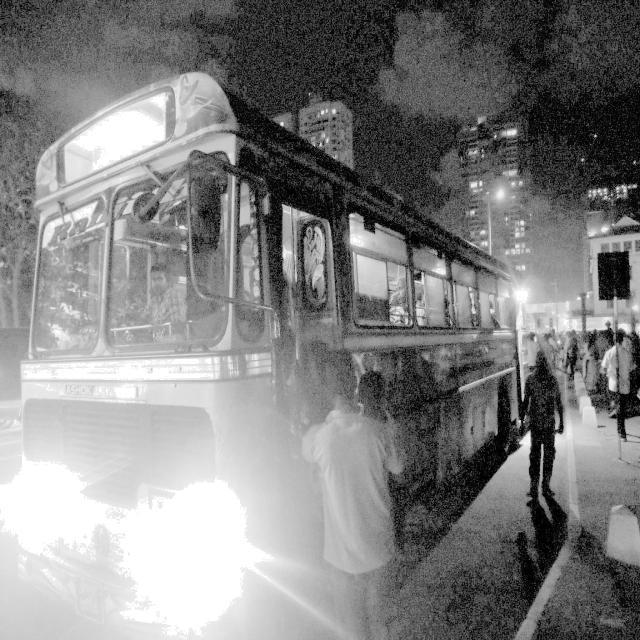Bus: (0, 66, 549, 595)
Person: (302, 339, 412, 639), (521, 335, 573, 527)
